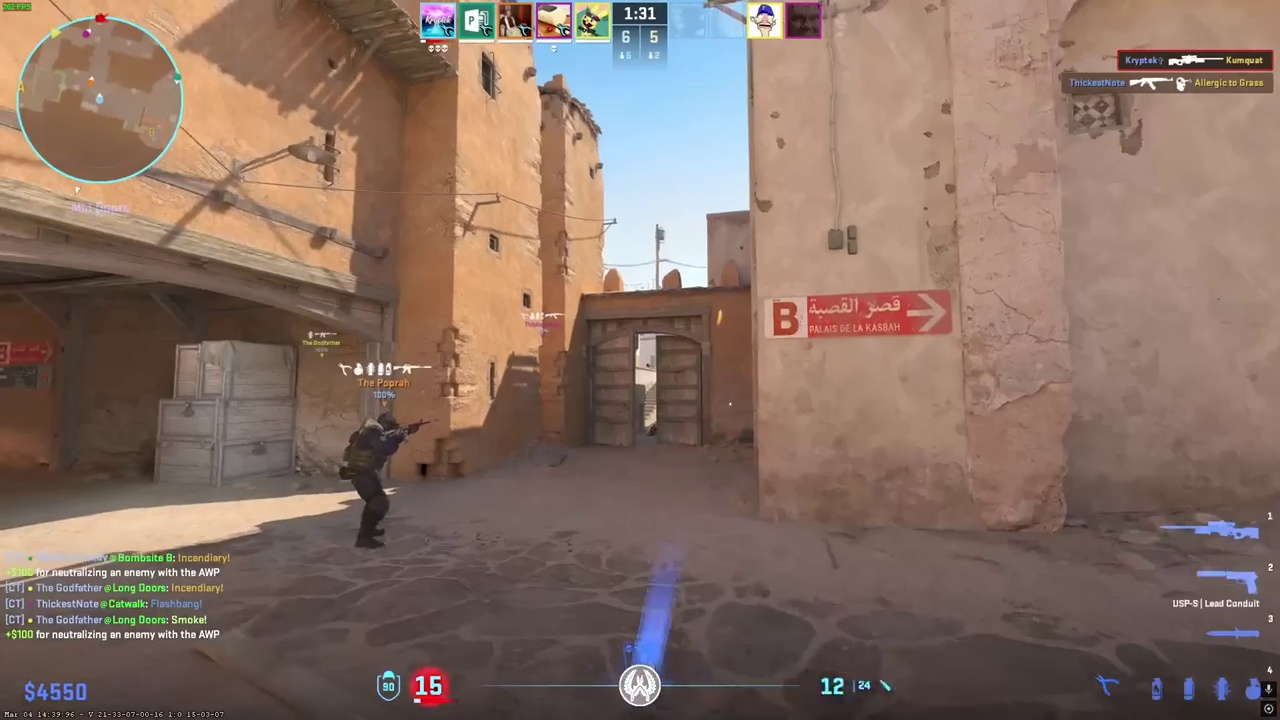CT: (344, 412, 403, 546)
